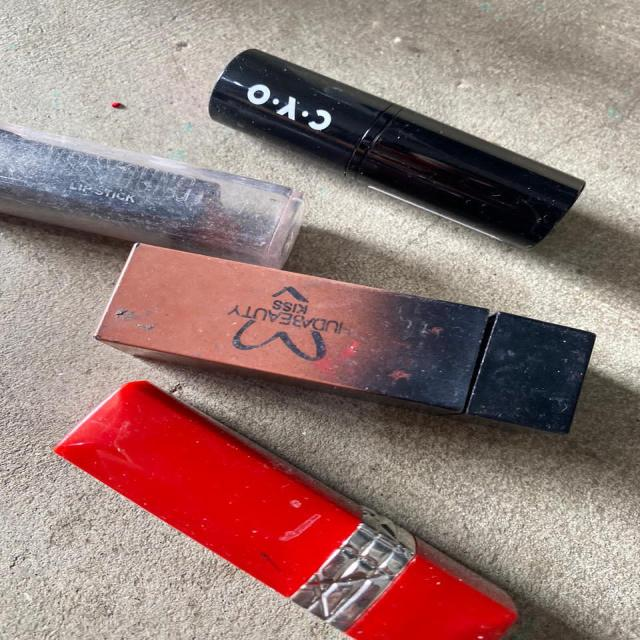lip stick: (34, 374, 604, 640), (74, 225, 616, 434), (190, 42, 605, 252)
